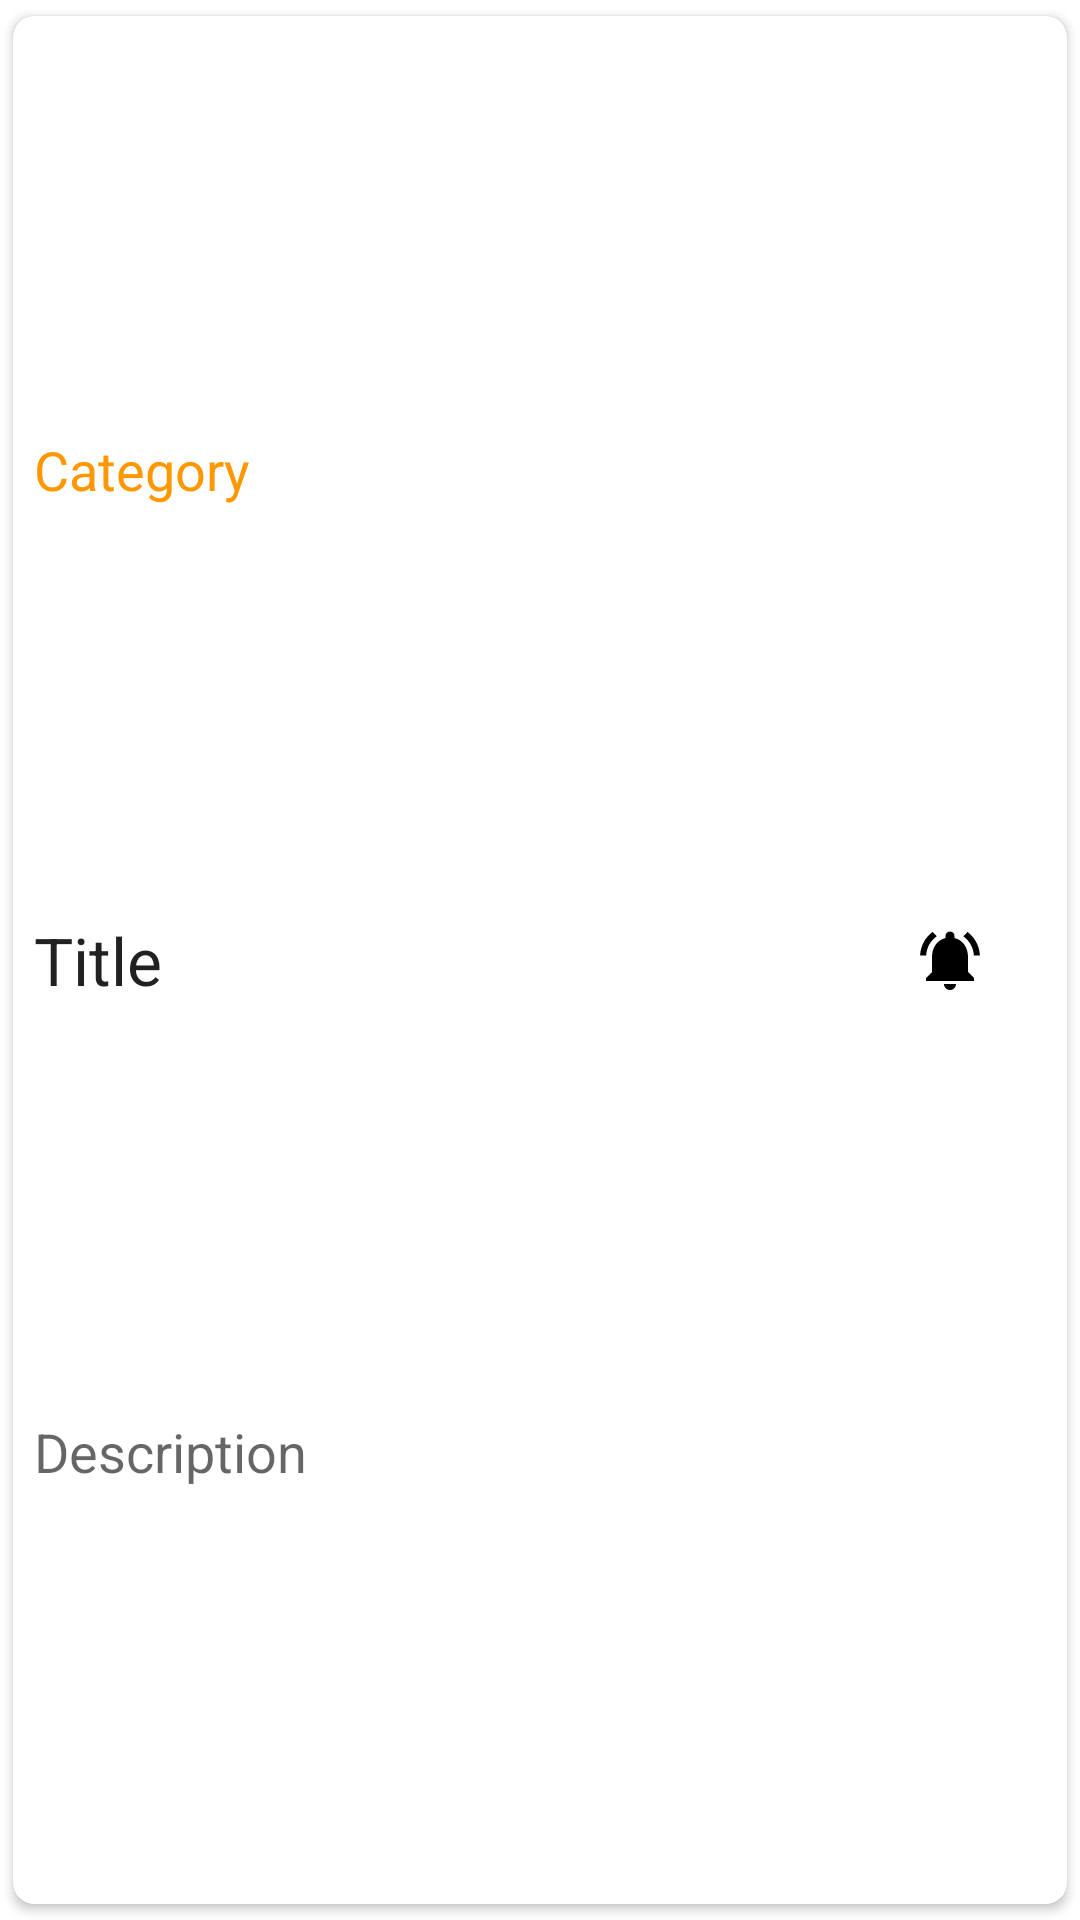

Locate icon controls on the screen. Image size 1080 x 1920, boxes as (x1, y1, x2, y2).
notifications: (920, 931, 980, 990)
